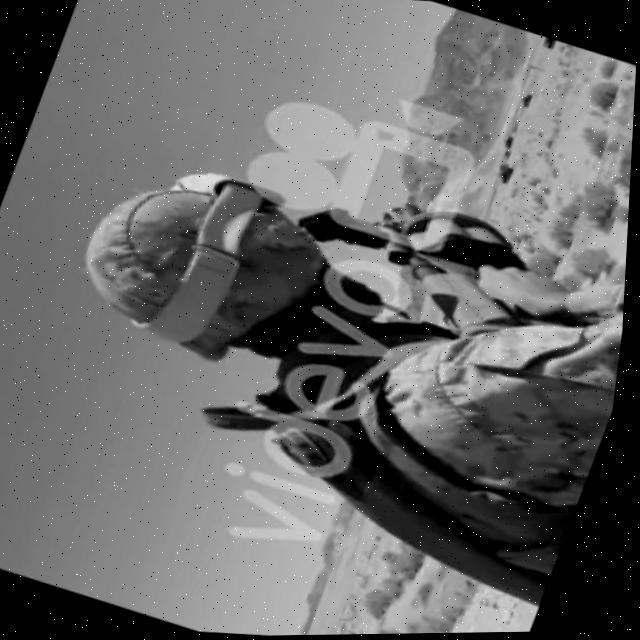rocket: (279, 164, 554, 348)
